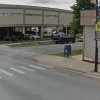crosswalk: (0, 62, 53, 79)
